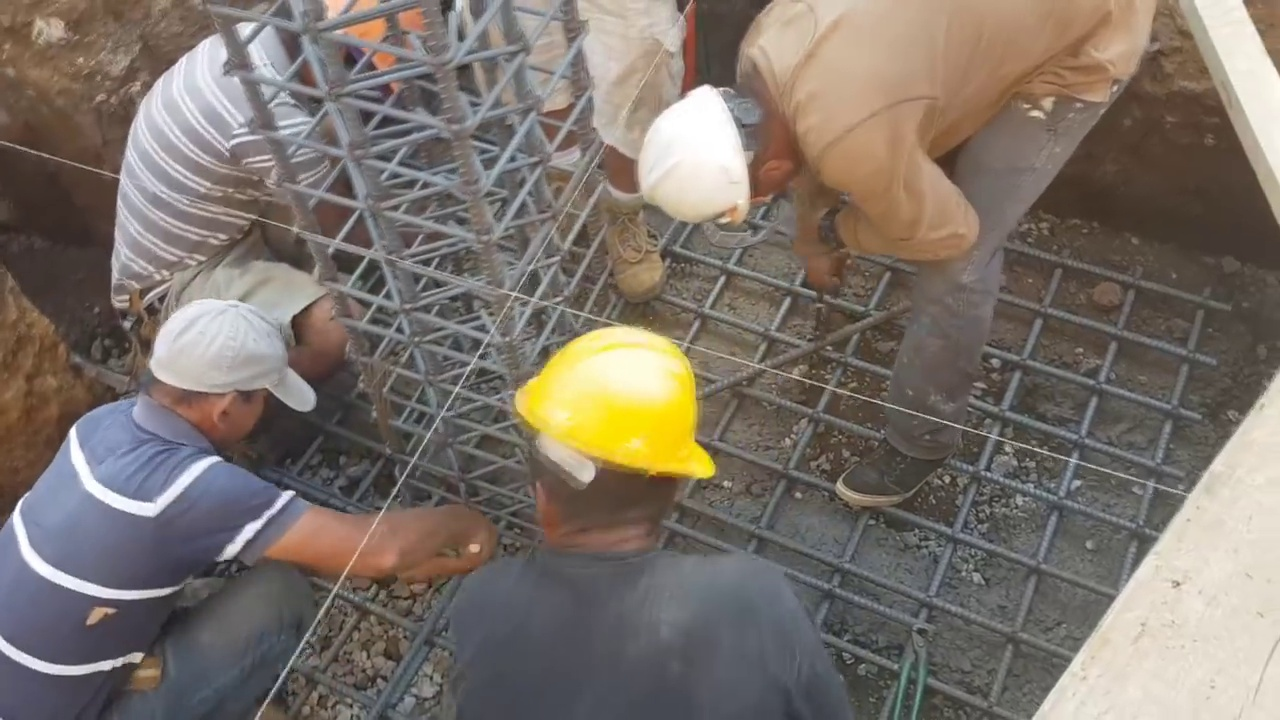helmet: (514, 327, 717, 484), (641, 81, 747, 230), (335, 7, 408, 90)
helmet-off: (135, 286, 337, 450)
helmet-on: (507, 319, 710, 564), (642, 50, 813, 237), (264, 6, 414, 107)
person: (638, 0, 1162, 518), (0, 290, 498, 718), (435, 316, 861, 720), (107, 4, 464, 359), (459, 0, 688, 302)
